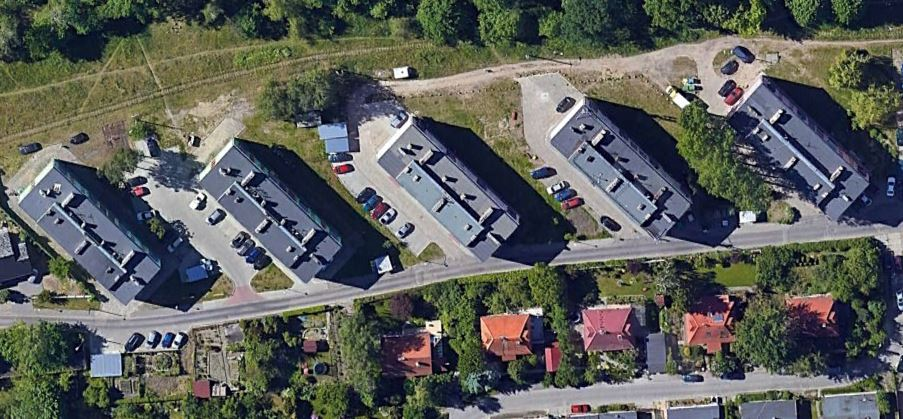block of flats: (715, 68, 877, 229), (10, 151, 166, 310), (192, 135, 350, 289), (372, 116, 526, 266), (545, 98, 693, 246)
family house: (677, 292, 745, 359), (575, 296, 645, 358), (475, 305, 543, 368), (369, 324, 440, 384), (782, 288, 850, 337)
